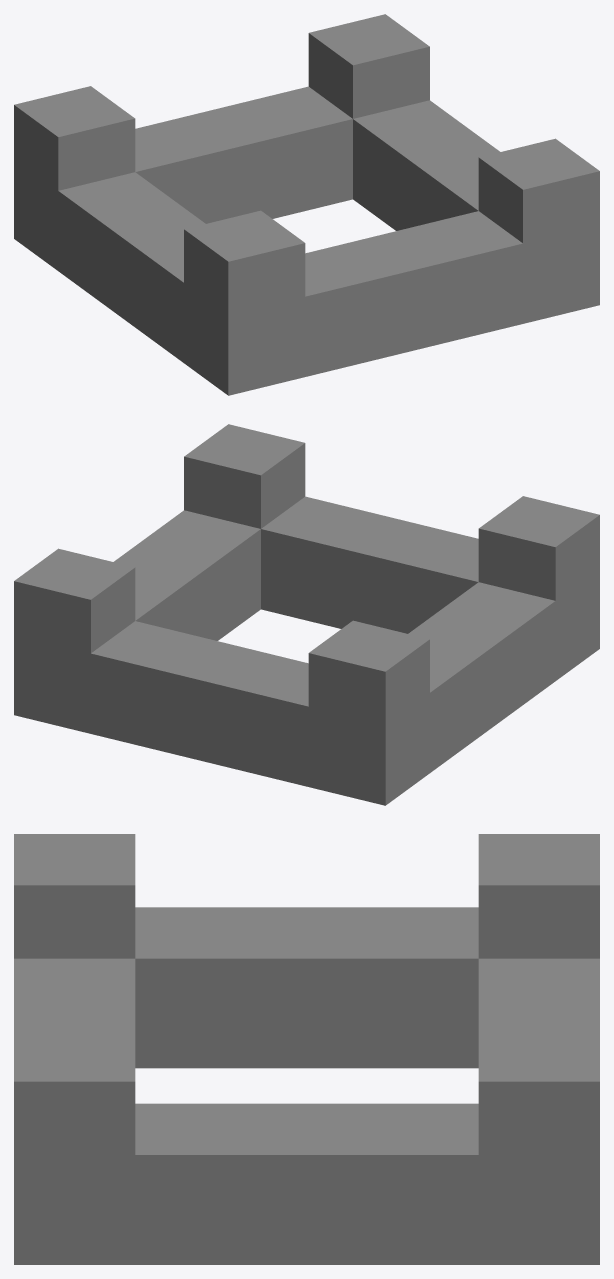
File: Conduit.obj
3 renders of one model, top to bottom at view 1: azimuth 30°, elevation 25°; view 2: azimuth 150°, elevation 25°; view 3: azimuth 270°, elevation 25°, orthographic. The views are drawn at different scales.
Visible parts, largest first — view 1: FluidConduit_Cube.022; view 2: FluidConduit_Cube.022; view 3: FluidConduit_Cube.022.
Part boxes in pixels (box(x1,y1,x2,y2)): FluidConduit_Cube.022: box(14, 14, 599, 395); FluidConduit_Cube.022: box(14, 424, 599, 805); FluidConduit_Cube.022: box(14, 834, 599, 1264).
Size of the model in its own units: 0.3625 by 0.125 by 0.3625.
